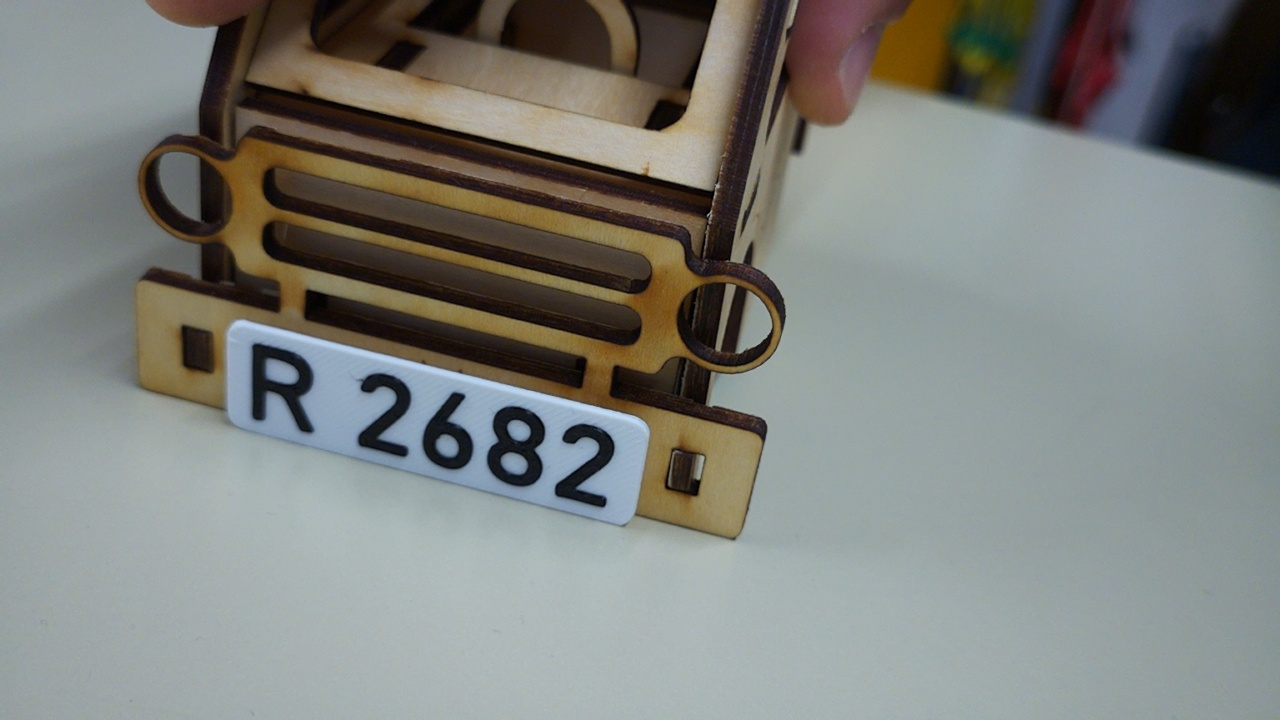license_plate: (224, 316, 653, 529)
